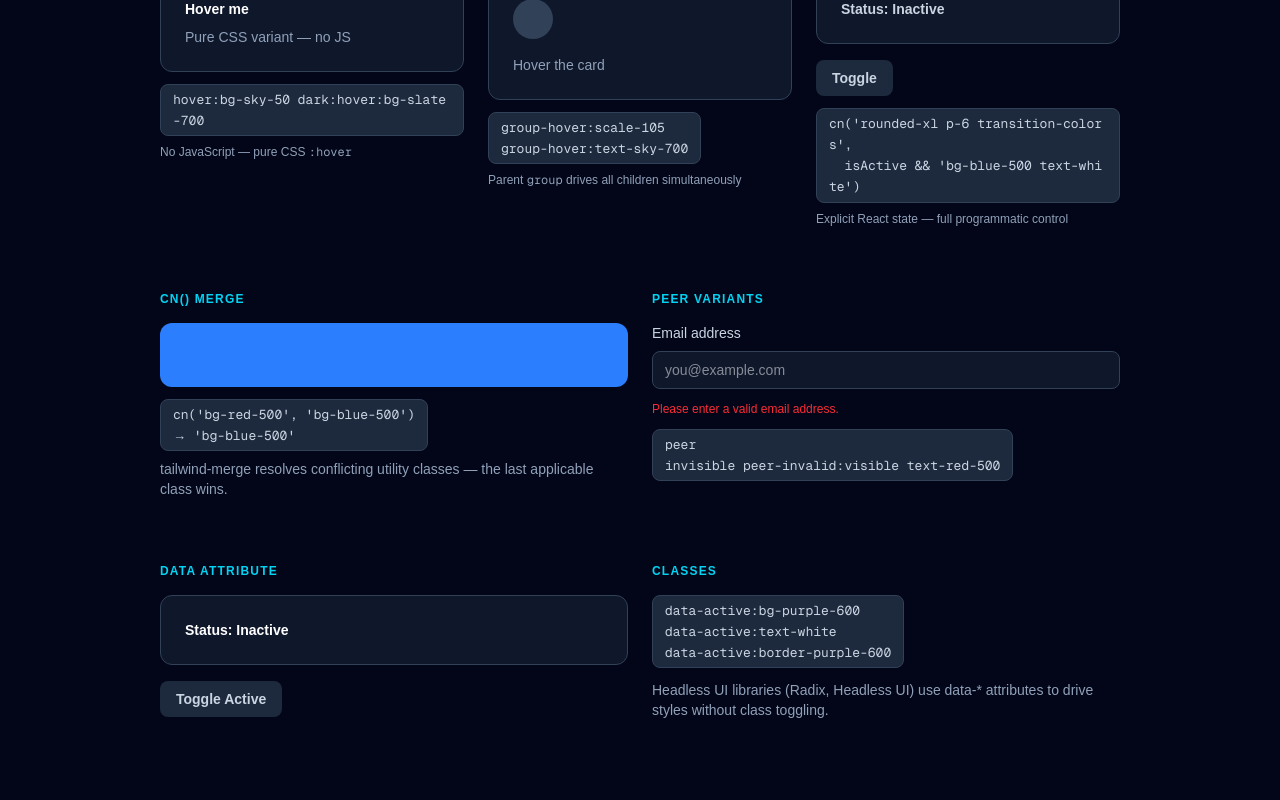
Scenario: Conditional Styling content › clicking Toggle Active adds data-active attribute to the data card (S6-04)
(page scrolled)
Click the button "Toggle Active": point(221, 699) x1=160 y1=681 x2=282 y2=717
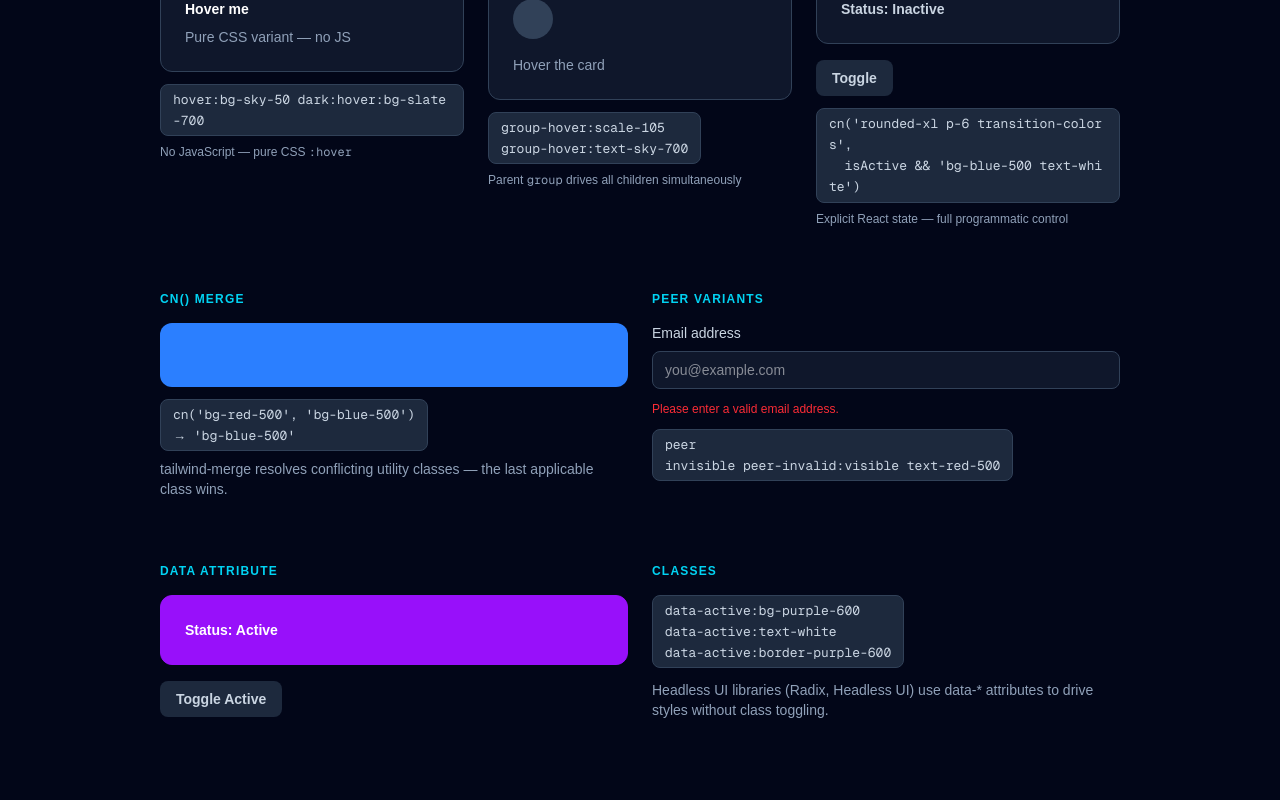
Result: the text "Status: Active" is shown at x1=185 y1=622 x2=278 y2=638
